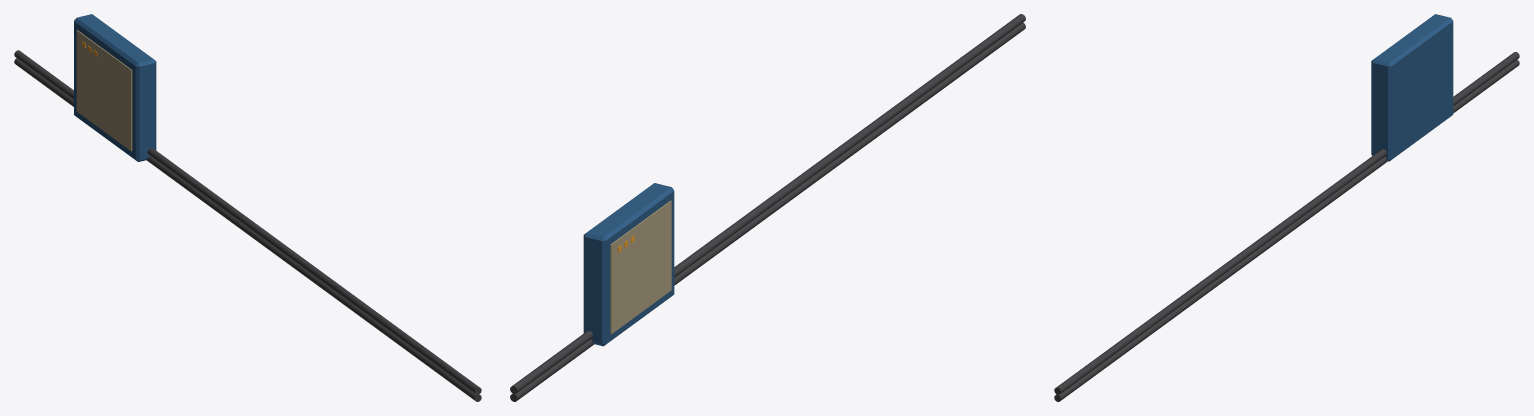
Rendered from pax100_power.obj.
The picture shows the model from 3 angles, left to right: view 1: azimuth 30°, elevation 25°; view 2: azimuth 150°, elevation 25°; view 3: azimuth 330°, elevation 25°; orthographic projection. The views are drawn at different scales.
Parts seen in each view (by area): view 1: pax100_power; view 2: pax100_power; view 3: pax100_power.
Part boxes in pixels (x1,y1,x2,y2): pax100_power: (14,14,481,401); pax100_power: (510,14,1025,401); pax100_power: (1054,14,1519,401).
Size of the model in its own units: 0.255 by 1.12 by 9.26.
